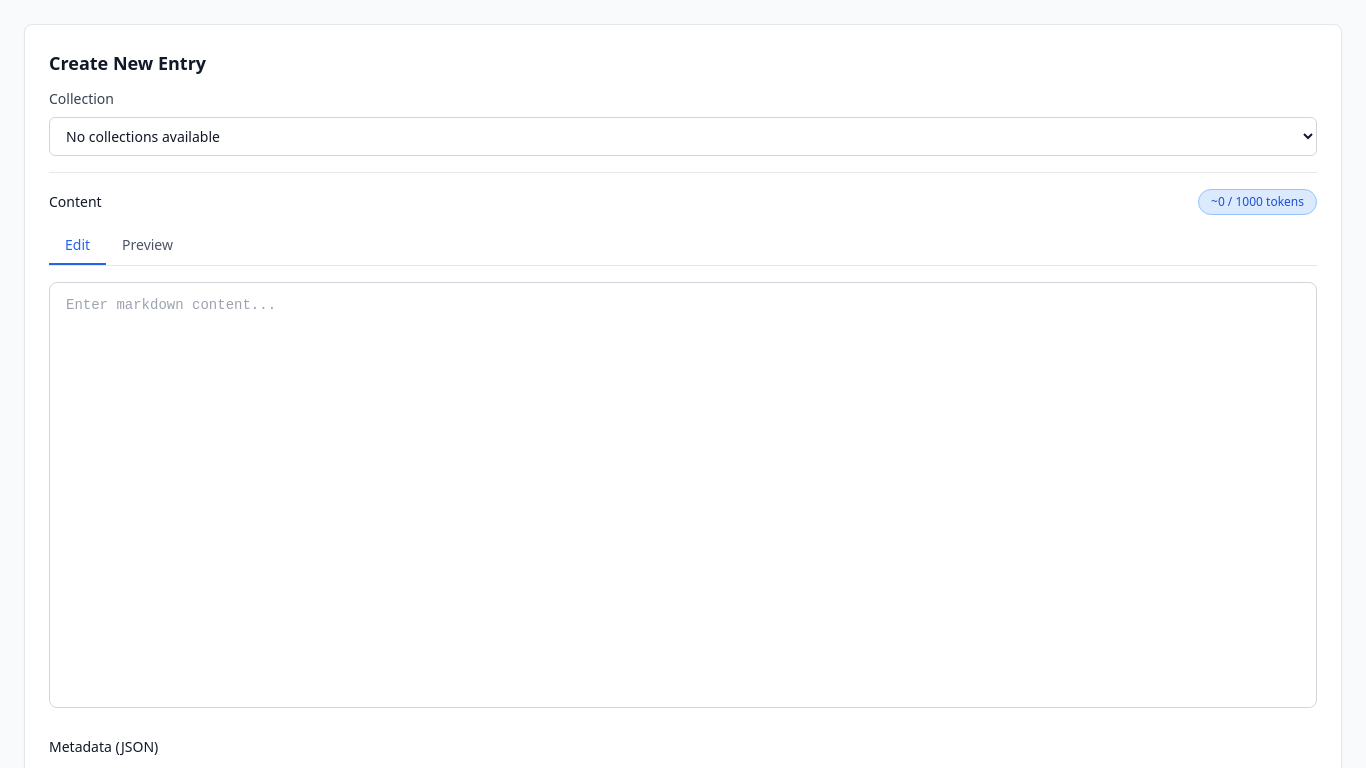
ArticleEditor › Validation › should display validation error for missing collection on new entry
Type "Some content" into the text box with placeholder "Enter markdown content..." at (683, 495), box [49,282,1317,708]
(page scrolled)
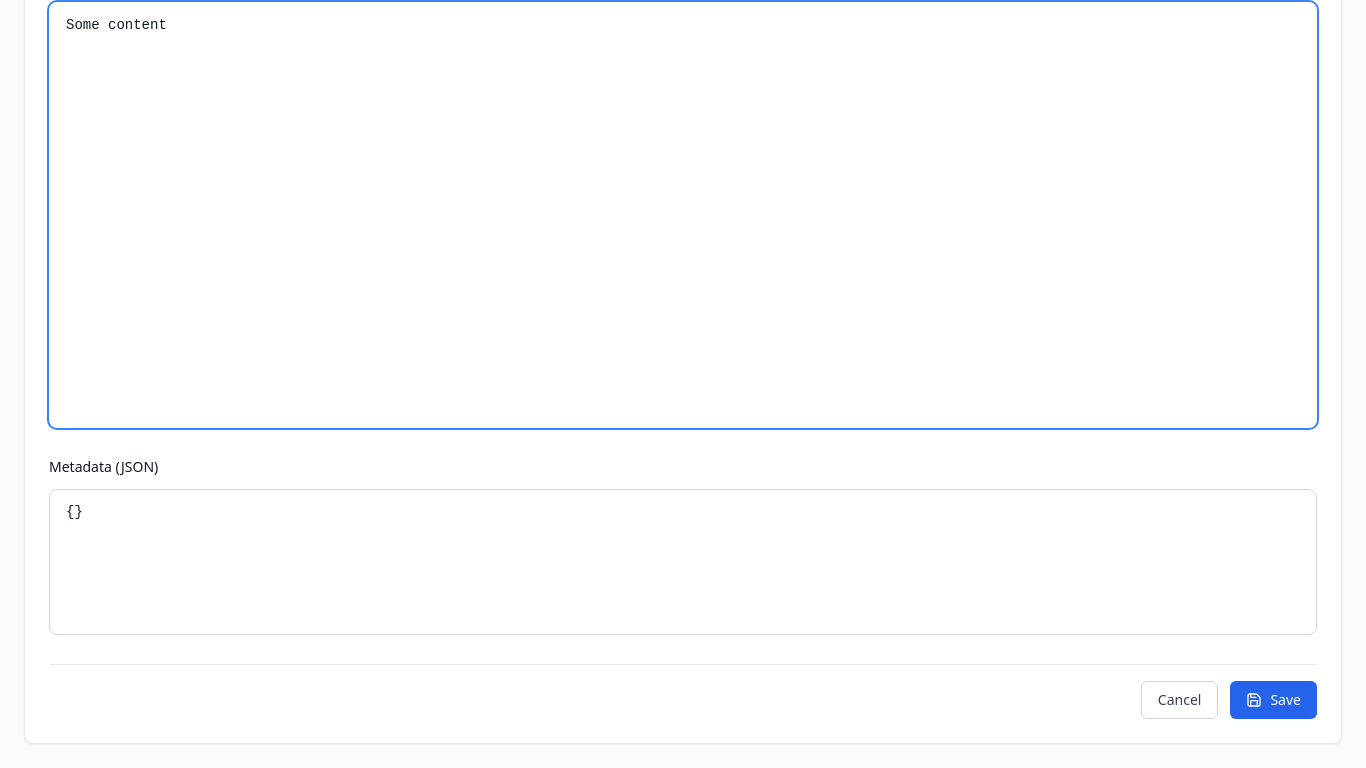
Click the button "Save" at (1274, 700), box [1230,681,1317,719]
(page scrolled)
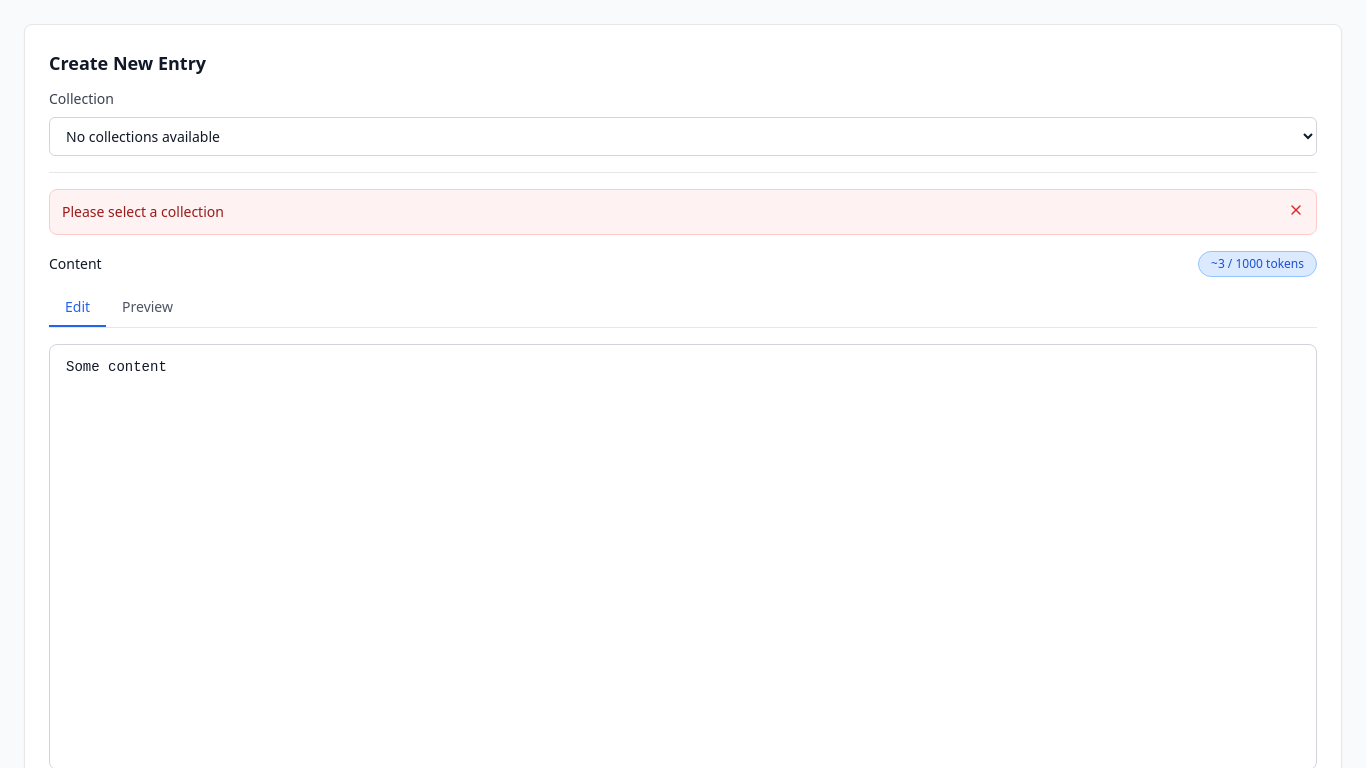
Expected: the text "Please select a collection" is shown, [62,202,224,222]
